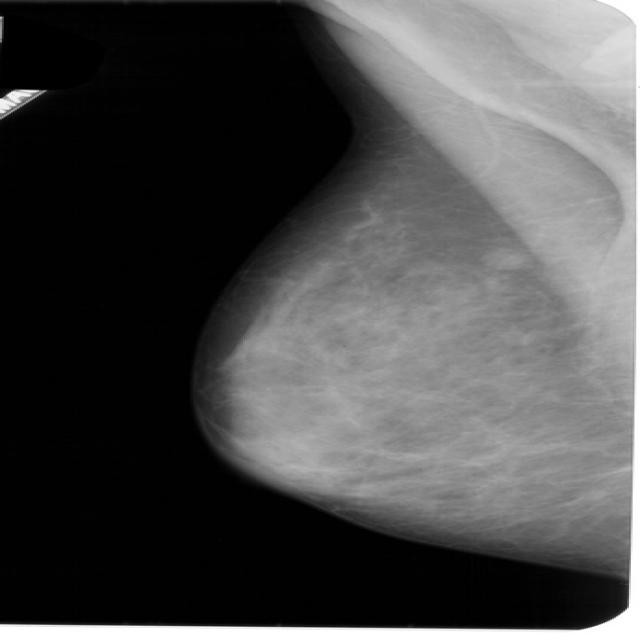tumour: (476, 244, 528, 270)
